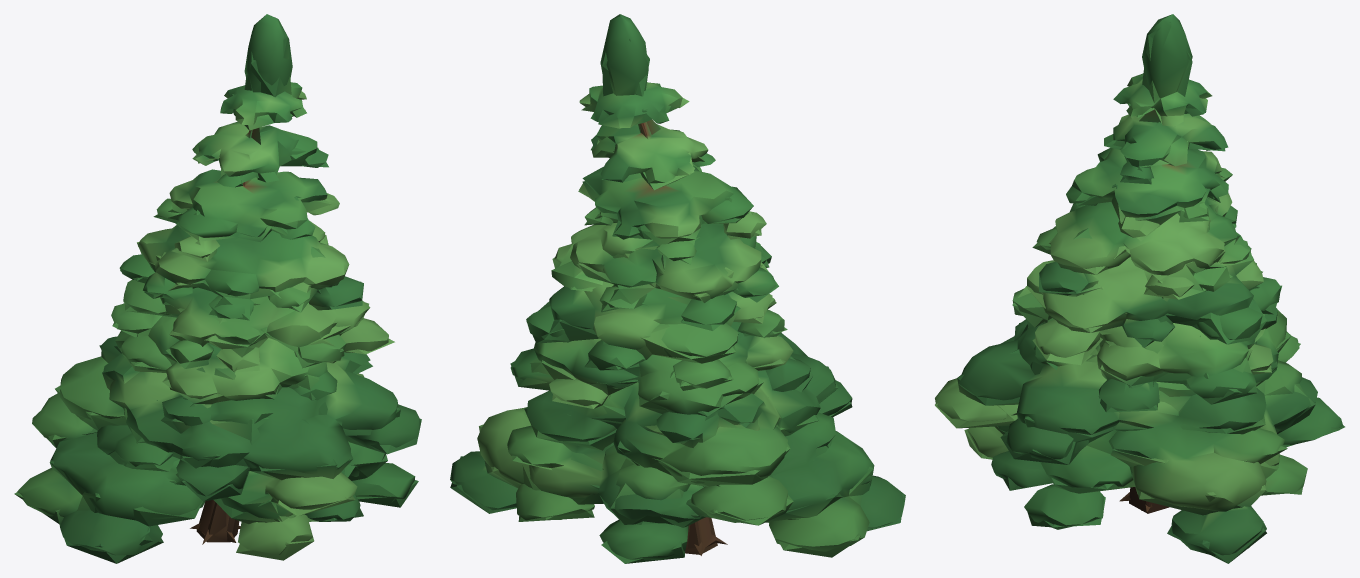
Rendered from pine_mature_tall_lean.glb.
3 renders of one model, left to right at view 1: azimuth 30°, elevation 25°; view 2: azimuth 150°, elevation 25°; view 3: azimuth 270°, elevation 25°, orthographic. The views are drawn at different scales.
Parts seen in each view (by area): view 1: pine_mature_tall_lean_LOD1, pine_mature_tall_lean_LOD2; view 2: pine_mature_tall_lean_LOD1, pine_mature_tall_lean_LOD2; view 3: pine_mature_tall_lean_LOD1, pine_mature_tall_lean_LOD2.
Boxes of the visible parts, <box> form: pine_mature_tall_lean_LOD1: <box>17,14,420,555</box>; pine_mature_tall_lean_LOD2: <box>14,17,421,563</box>; pine_mature_tall_lean_LOD1: <box>450,14,905,559</box>; pine_mature_tall_lean_LOD2: <box>450,39,904,563</box>; pine_mature_tall_lean_LOD1: <box>935,14,1342,555</box>; pine_mature_tall_lean_LOD2: <box>935,22,1344,563</box>.
Size of the model in its own units: 6.07 by 7.7 by 5.51.
